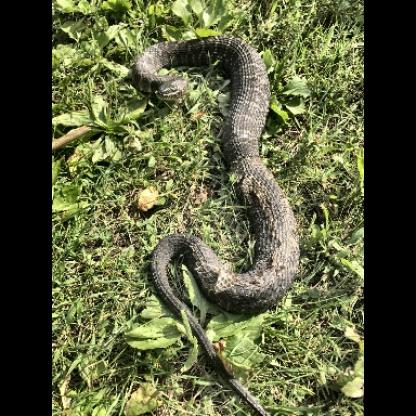Snake: (70, 23, 329, 408)
